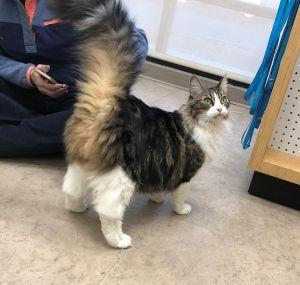ragdoll: (183, 69, 240, 129)
